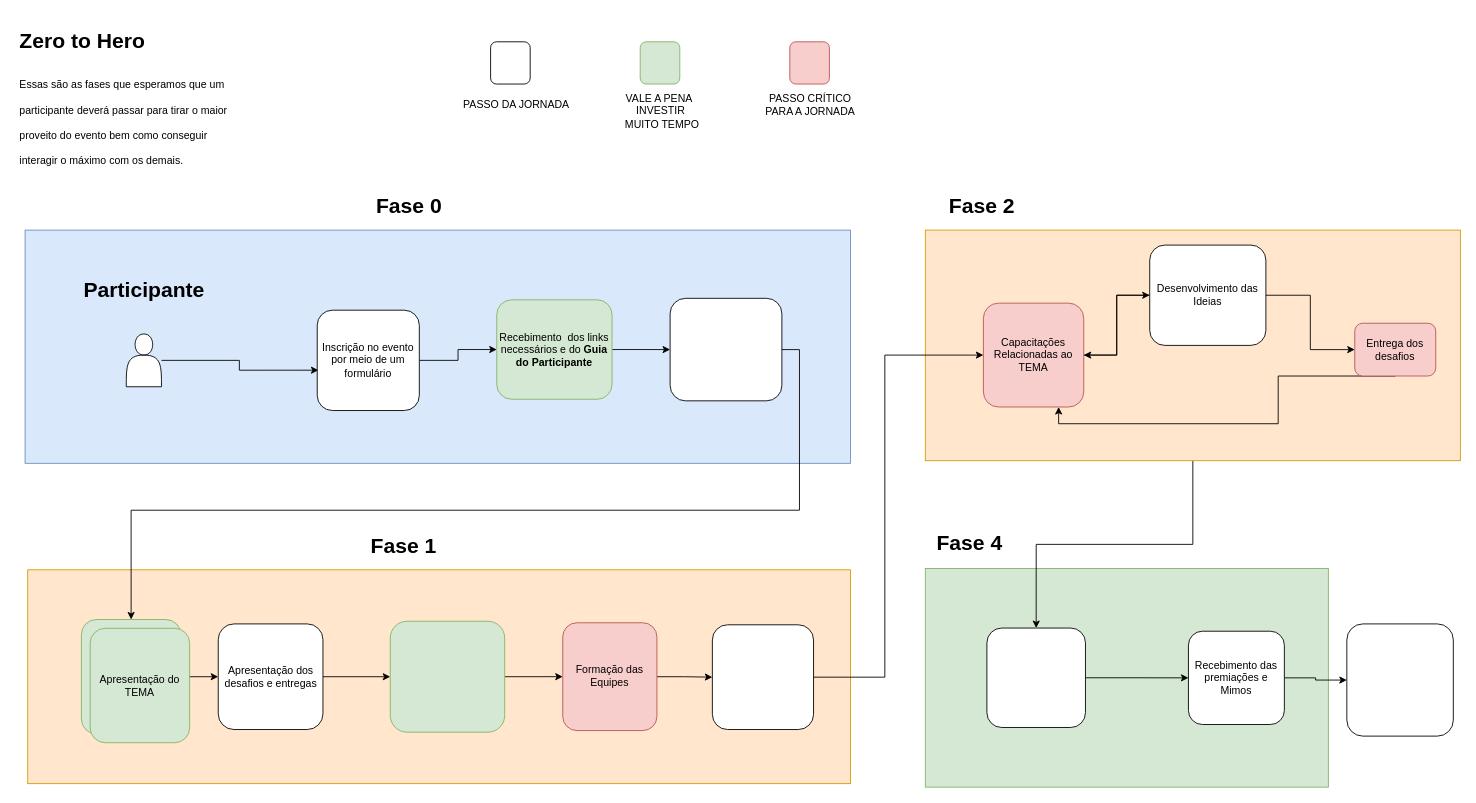
Some shapes in this 1476 by 803 pixel diagram are drawn without their labels. Each missing label, with the centre of its shape:
Cadastro nas plataformas e ferramentas que serão utilizadas durante o evento: [725,349]
Familiarização das ferramentas. (capacitações): [762,677]
FIM DO EVENTO: [1399,679]
Pitchs: [447,676]
Recebimento dos resultados e FEEDBACKS: [1035,677]
